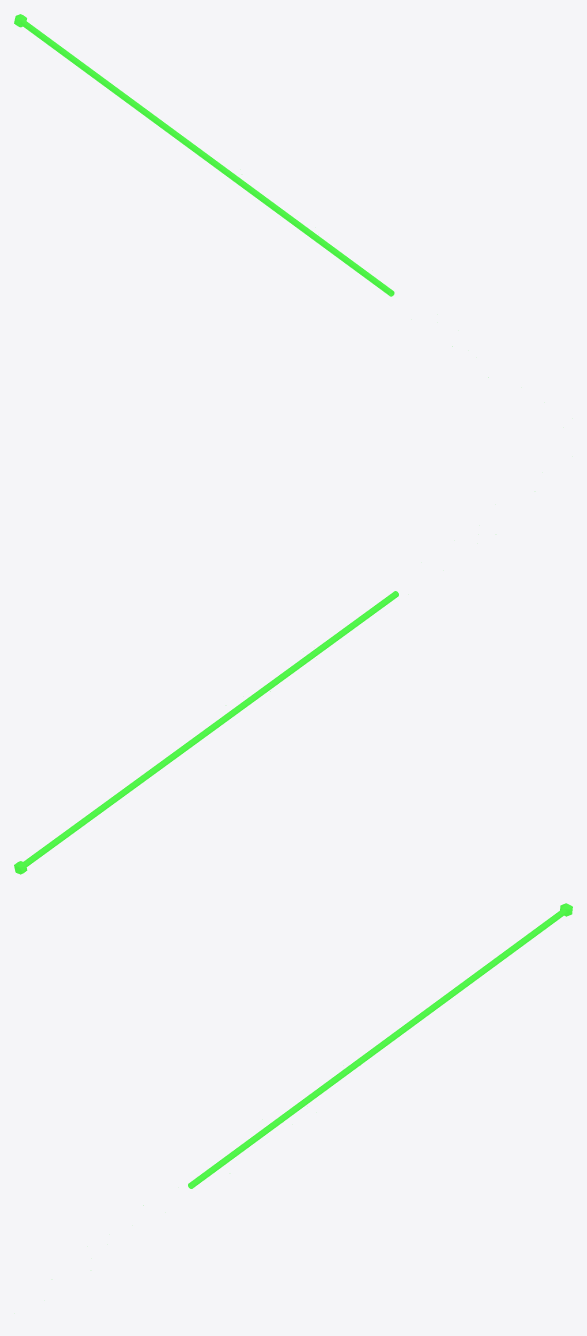
Rendered from laser1.glb.
The picture shows the model from 3 angles, top to bottom: view 1: azimuth 30°, elevation 25°; view 2: azimuth 150°, elevation 25°; view 3: azimuth 330°, elevation 25°; orthographic projection.
Parts seen in each view (by area): view 1: Beam; view 2: Beam; view 3: Beam.
Boxes of the visible parts, box(x1,y1,x2,y2) form: Beam: box(20, 20, 394, 296); Beam: box(23, 591, 398, 866); Beam: box(188, 909, 566, 1188).
Size of the model in its own units: 0.387 by 0.363 by 14.88.
